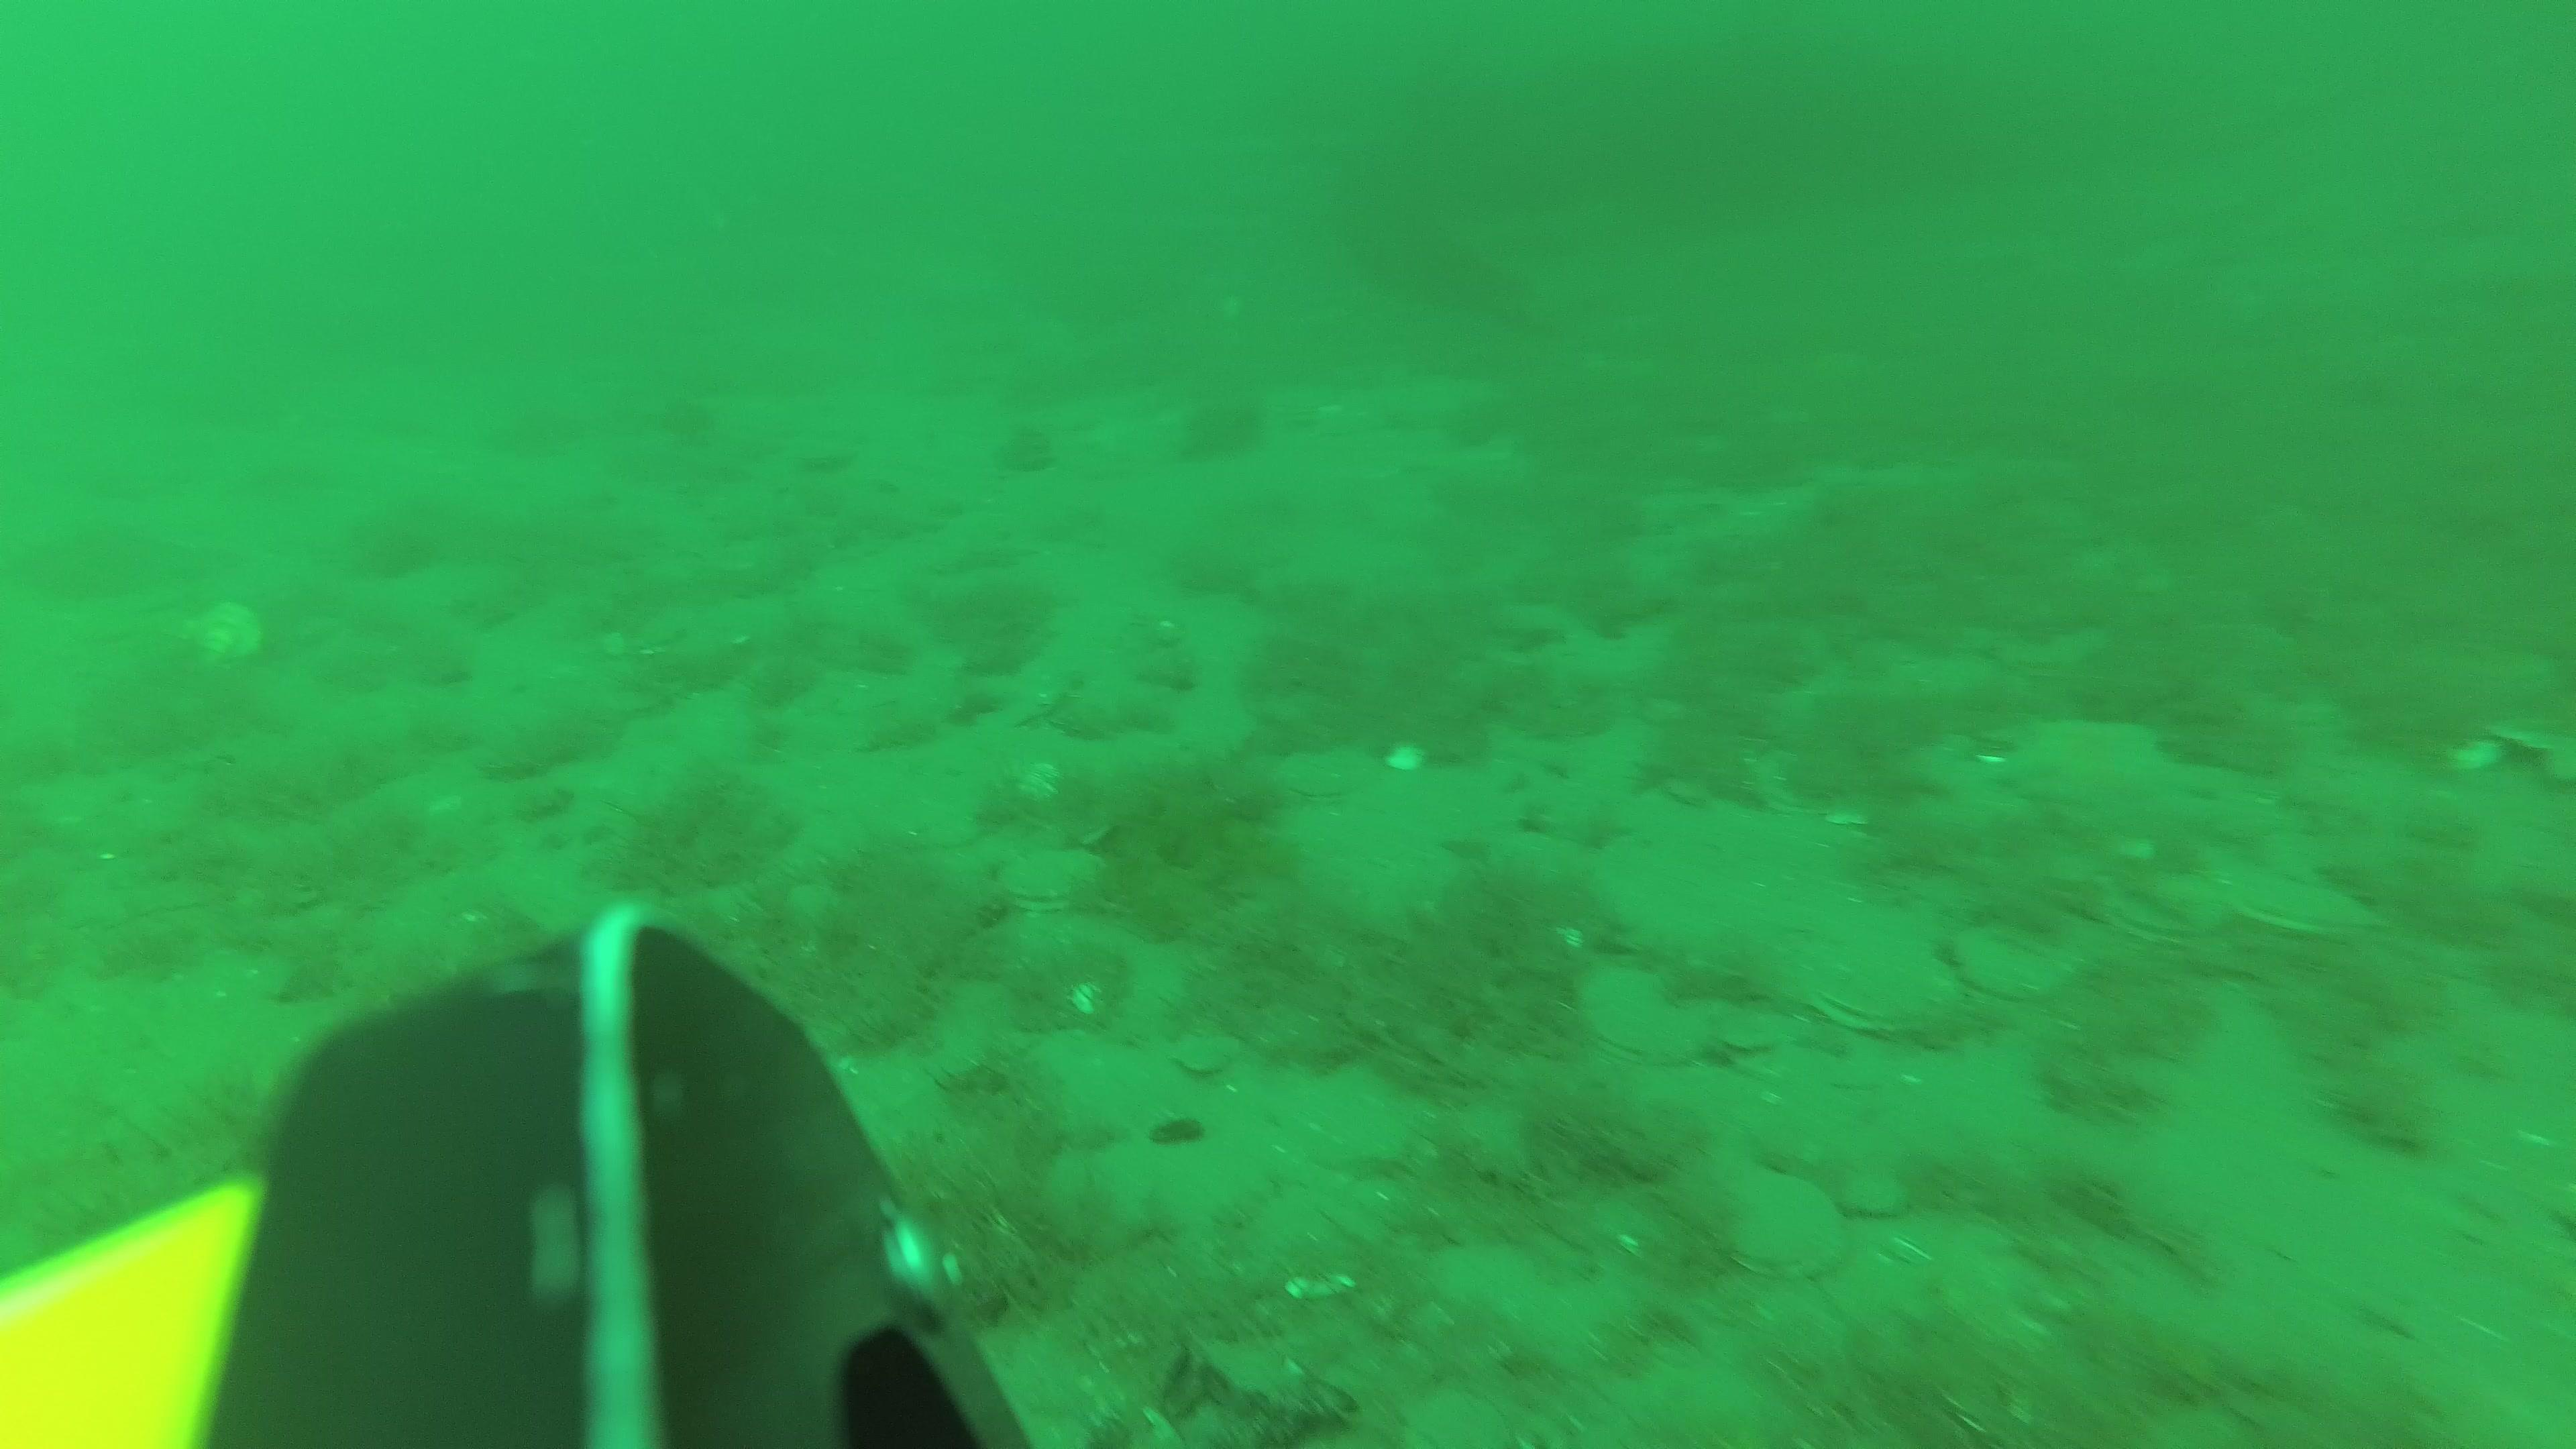scallop: (1706, 1171, 1844, 1281), (1805, 947, 1953, 1035), (1580, 970, 1704, 1065), (2229, 879, 2383, 943), (1959, 924, 2074, 998), (2116, 881, 2220, 948), (1001, 849, 1102, 913), (186, 602, 267, 674), (1276, 752, 1361, 805), (1836, 1171, 1905, 1215), (1169, 1035, 1240, 1077), (1727, 1017, 1773, 1062)
starfish: (1982, 718, 2173, 809)
